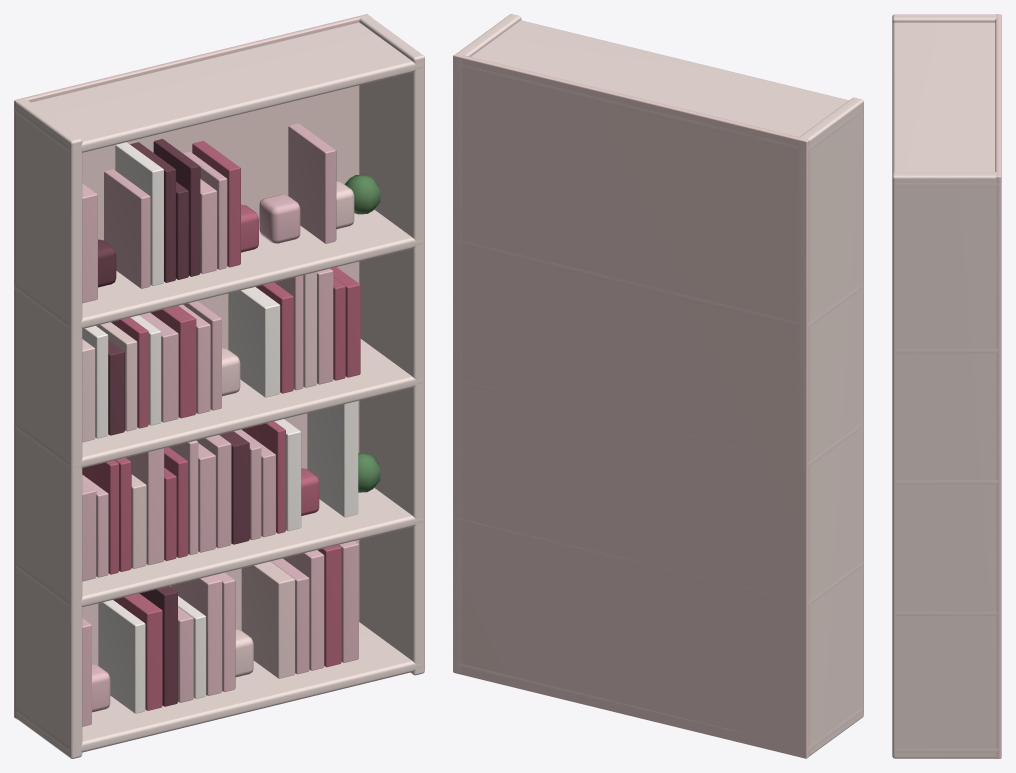
Rendered from bookcase_open.glb.
3 views of the same model, side by side, from view 1: azimuth 30°, elevation 25°; view 2: azimuth 150°, elevation 25°; view 3: azimuth 270°, elevation 25° (orthographic). The views are drawn at different scales.
Visible parts, largest first — view 1: bookcase_open; view 2: bookcase_open; view 3: bookcase_open.
Boxes of the visible parts, <box> form: bookcase_open: <box>14,14,424,758</box>; bookcase_open: <box>453,14,863,758</box>; bookcase_open: <box>892,14,1001,758</box>.
Bounding box in the file's own units: 1.2 × 2 × 0.34.
